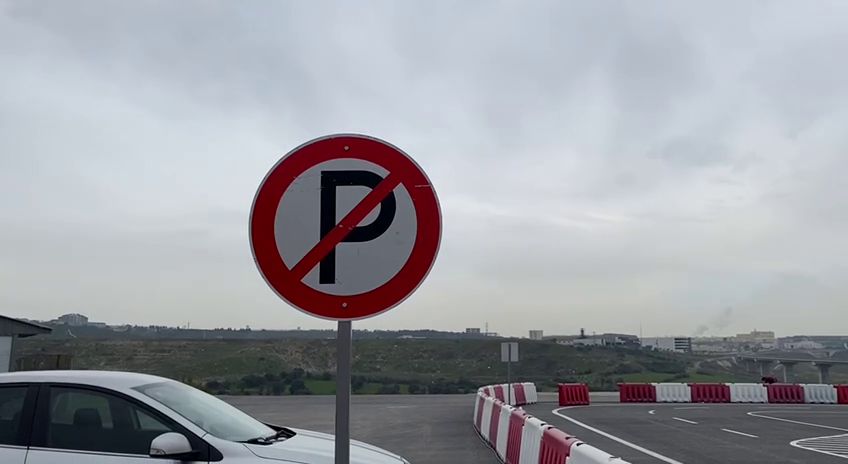noparking: (243, 123, 446, 327)
